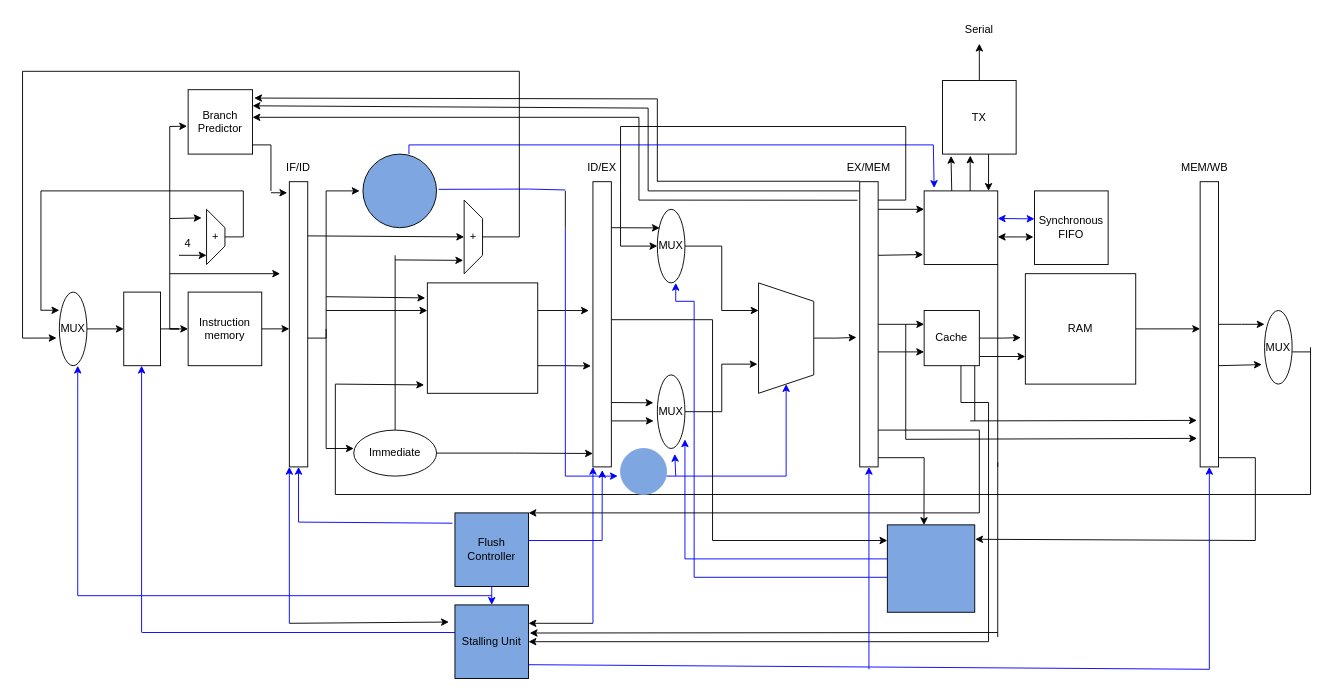
The diagram is 1328 pixels wide and 695 high, and some of its shapes have lost their labels. The centre of each missing label's shape, as x and y in pixels:
"ALU" goes at pixel 786 337.
"ALU Control" goes at pixel 643 471.
"Forwarding Unit" goes at pixel 930 568.
"Main Control" goes at pixel 399 190.
"PC" goes at pixel 142 328.
"Register File" goes at pixel 482 337.
"UART Controller" goes at pixel 960 227.
